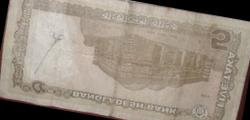5 taka: (11, 1, 242, 111)
